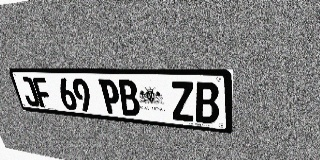6: (56, 78, 78, 111)
9: (71, 78, 94, 112)
B: (194, 82, 219, 124), (117, 80, 141, 117)
F: (31, 77, 54, 108)
J: (19, 77, 41, 107)
P: (98, 79, 122, 115)
Z: (170, 81, 195, 122)
